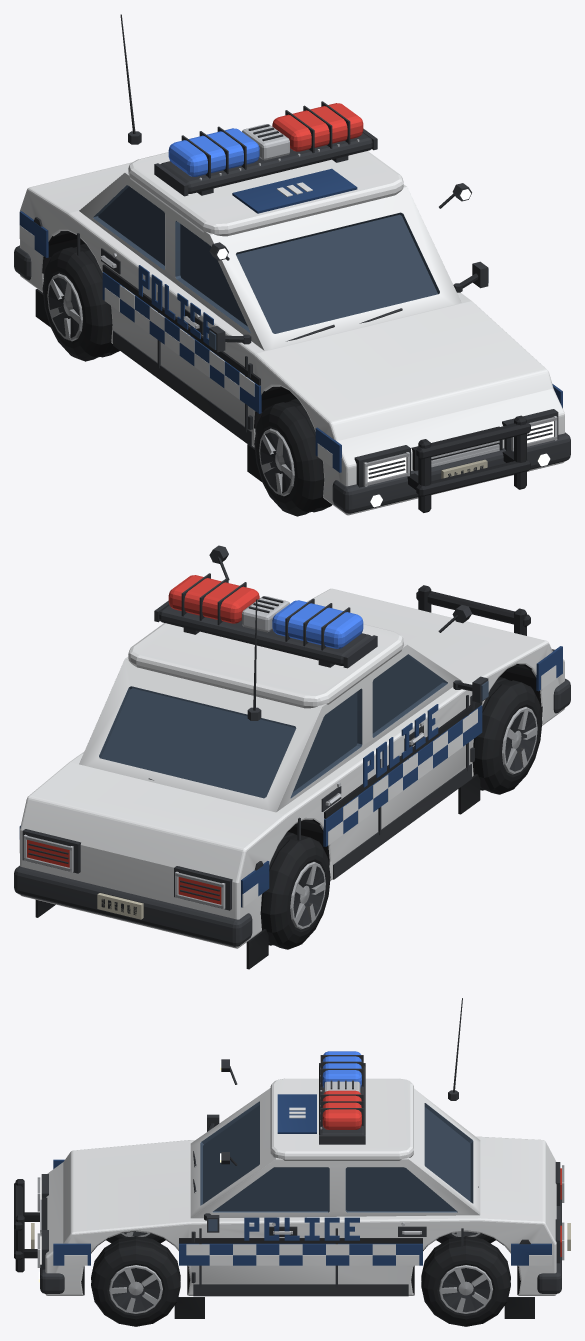
Rendered from police-car-near.glb.
The picture shows the model from 3 angles, top to bottom: view 1: azimuth 30°, elevation 25°; view 2: azimuth 150°, elevation 25°; view 3: azimuth 270°, elevation 25°; orthographic projection. The views are drawn at different scales.
Visible parts, largest first — view 1: PoliceCar; view 2: PoliceCar; view 3: PoliceCar.
Boxes of the visible parts, x1=… form: PoliceCar: x1=14, y1=14, x2=570, y2=516; PoliceCar: x1=14, y1=545, x2=570, y2=969; PoliceCar: x1=14, y1=998, x2=570, y2=1326.
Size of the model in its own units: 1.37 by 1.6 by 3.11.
